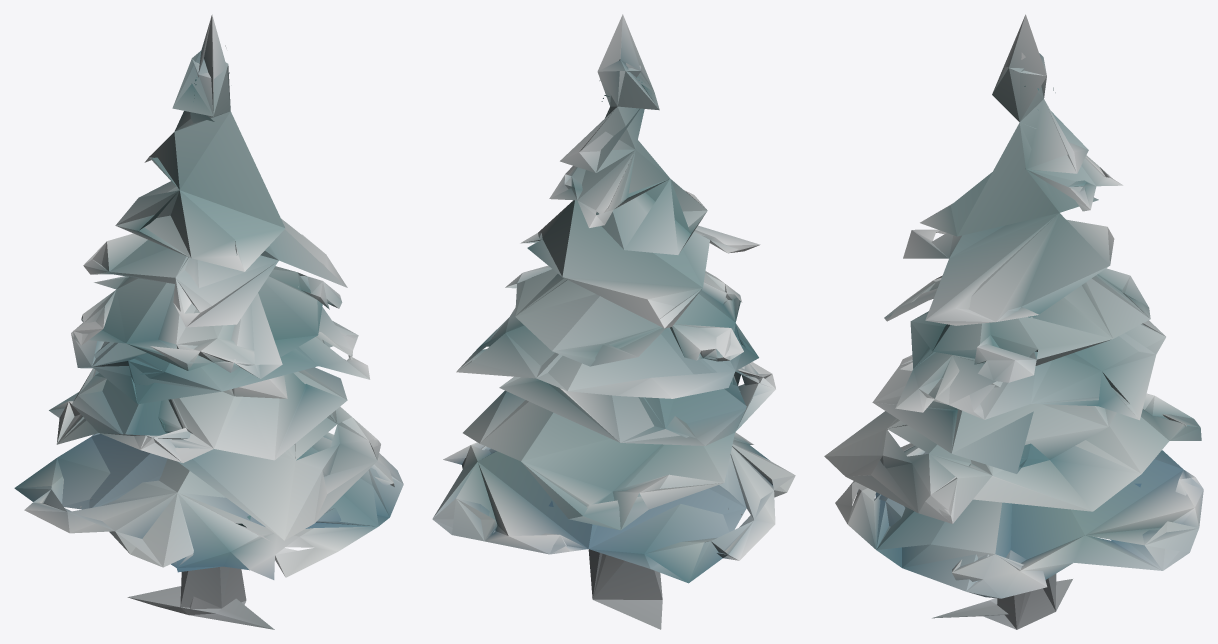
Rendered from fir_lod.glb.
3 views of the same model, side by side, from view 1: azimuth 30°, elevation 25°; view 2: azimuth 150°, elevation 25°; view 3: azimuth 270°, elevation 25° (orthographic).
Parts seen in each view (by area): view 1: fir_lod; view 2: fir_lod; view 3: fir_lod.
Boxes of the visible parts, x1,y1,x2,y2 form: fir_lod: (14, 14, 403, 629); fir_lod: (432, 14, 795, 629); fir_lod: (824, 14, 1203, 629).
Size of the model in its own units: 0.9237 by 1.6 by 0.9154.
